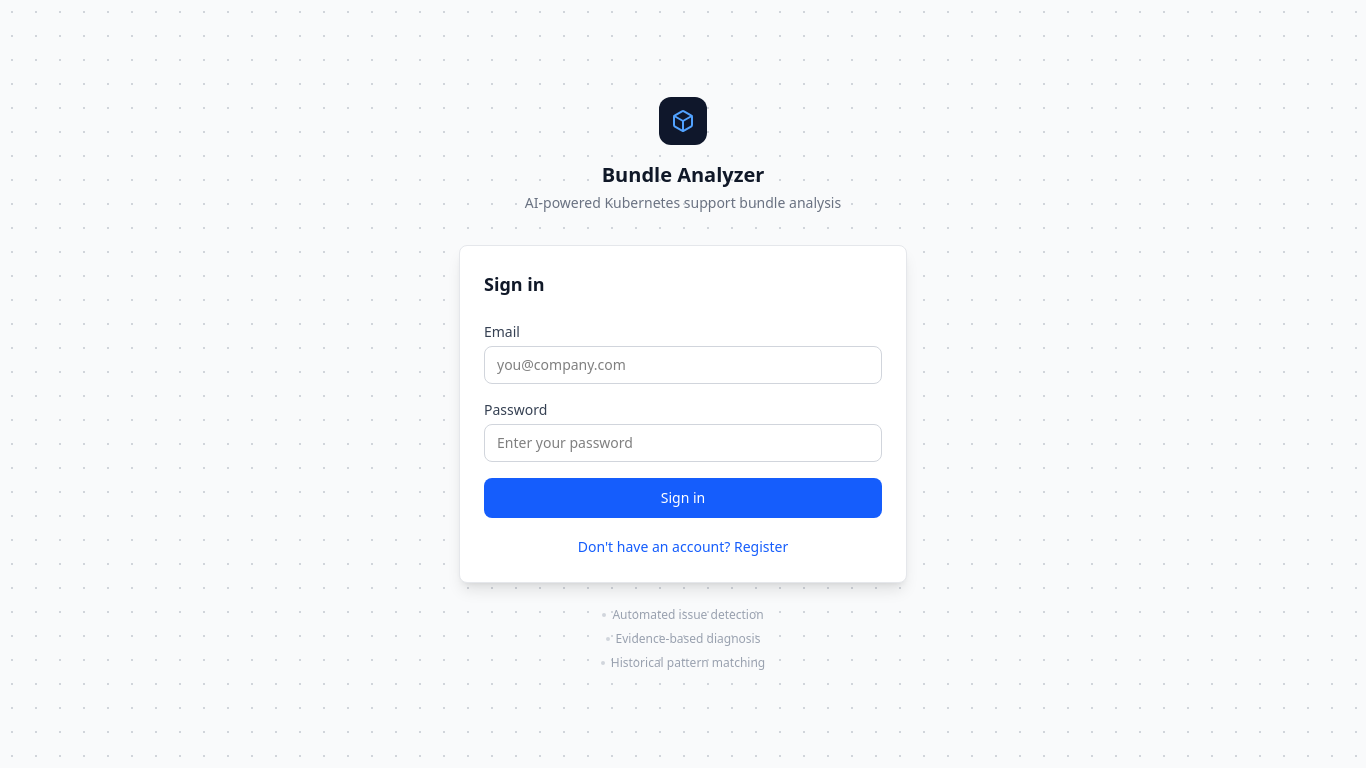
it: LoginPage › shows error message on failed login
Type "bad@example.com" into the field labelled "Email". click: (683,365)
box: [484,346,882,384]
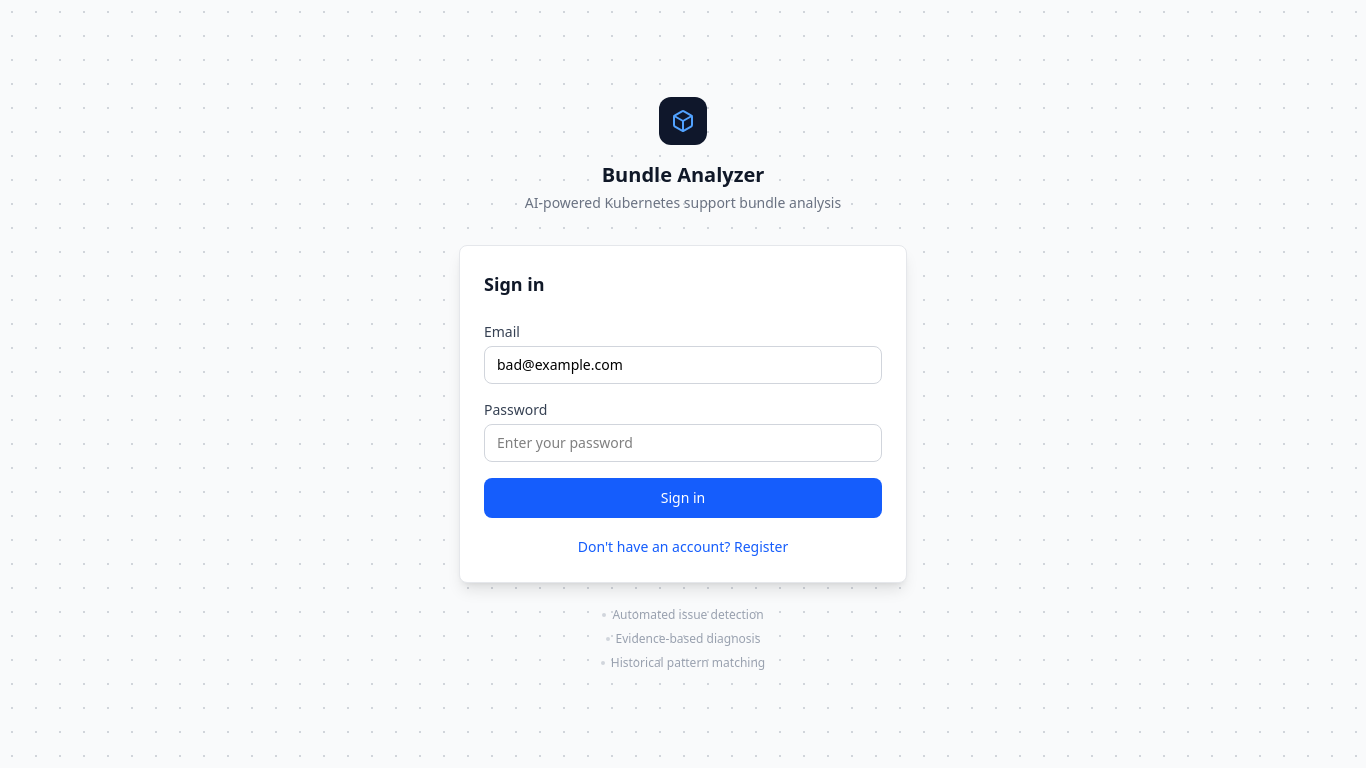
Type "wrong" into the password field labelled "Password". click: (683,443)
box: [484,424,882,462]
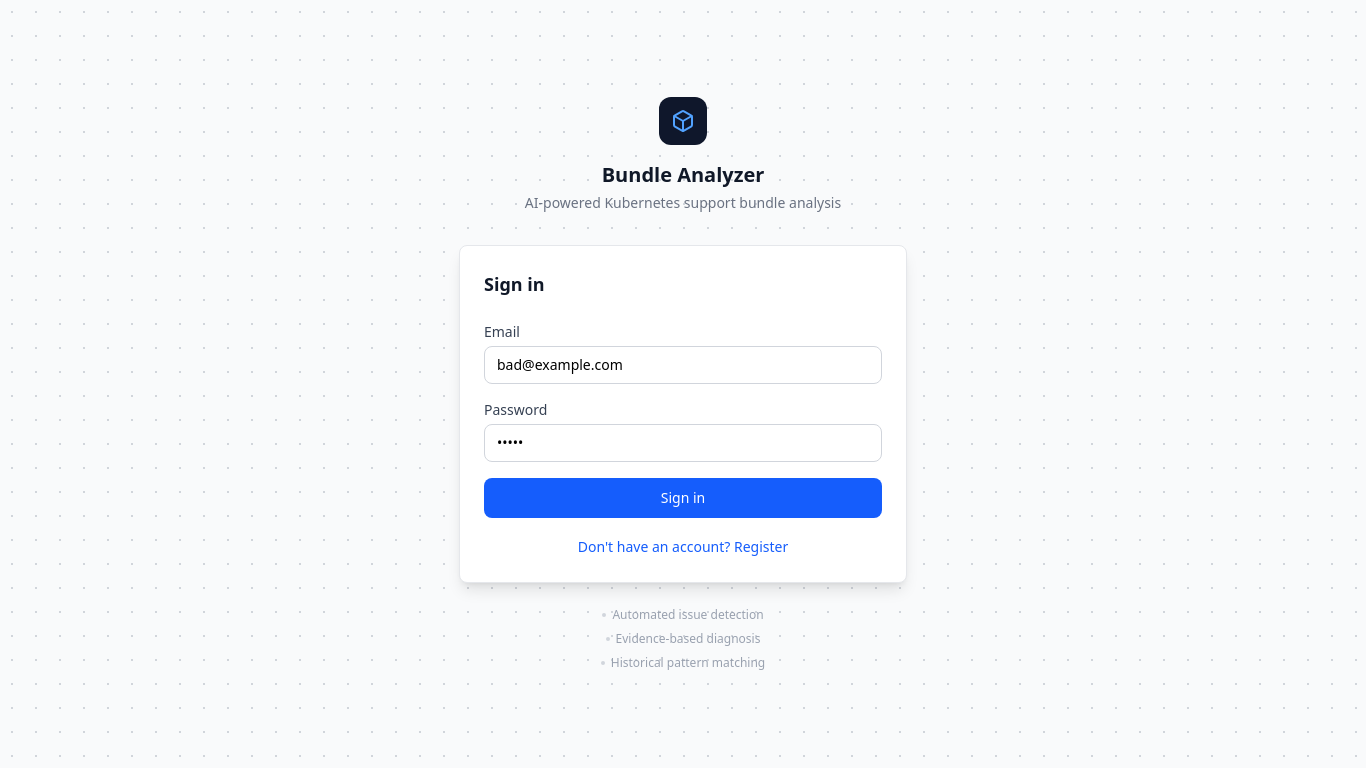
Click the button "Sign in". click: (683,498)
box: [484,478,882,518]
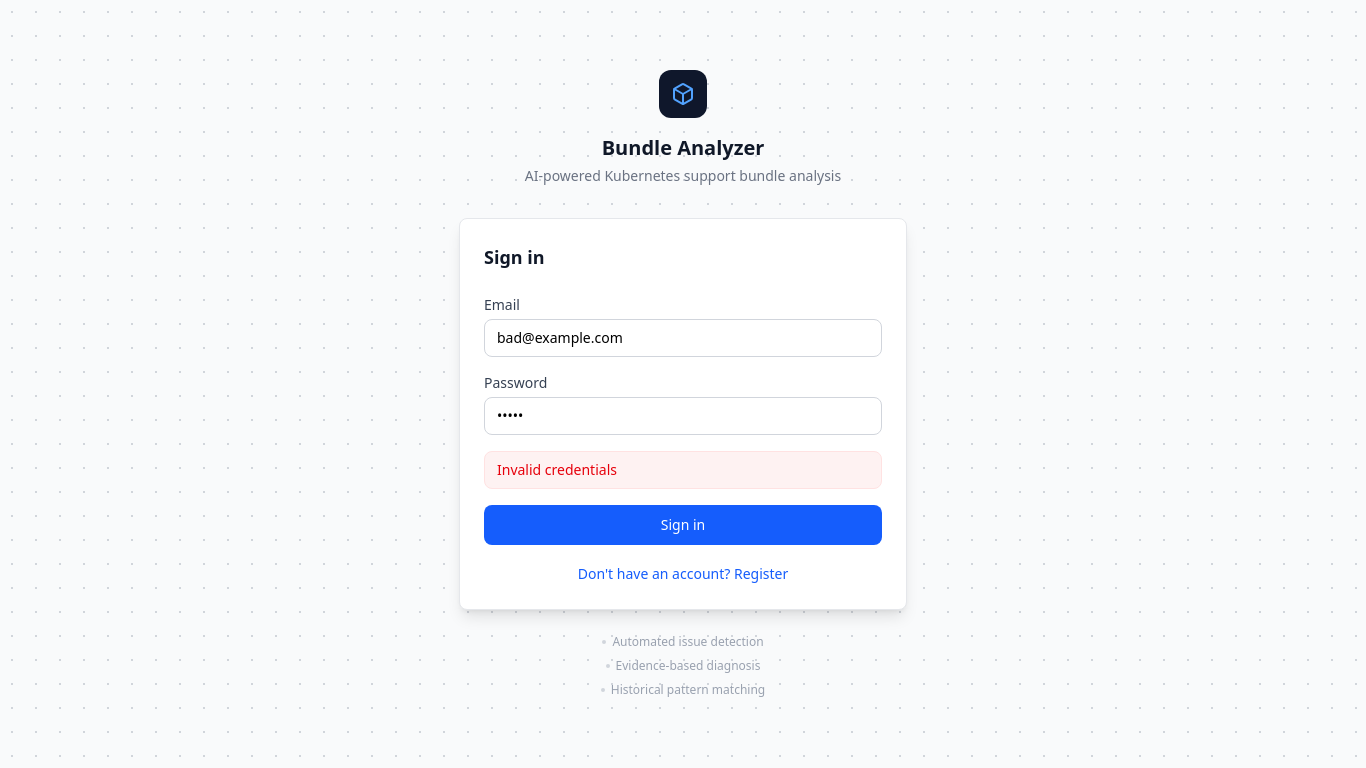
Expected: the text "Invalid credentials" is shown, [484,451,882,489]
